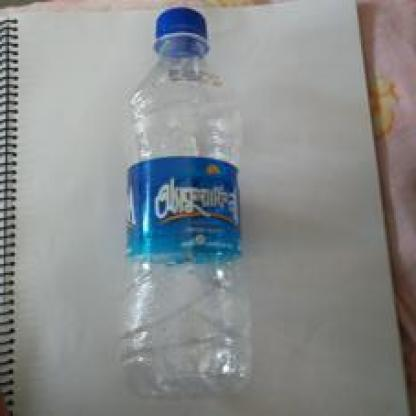bottle: (106, 1, 270, 400)
